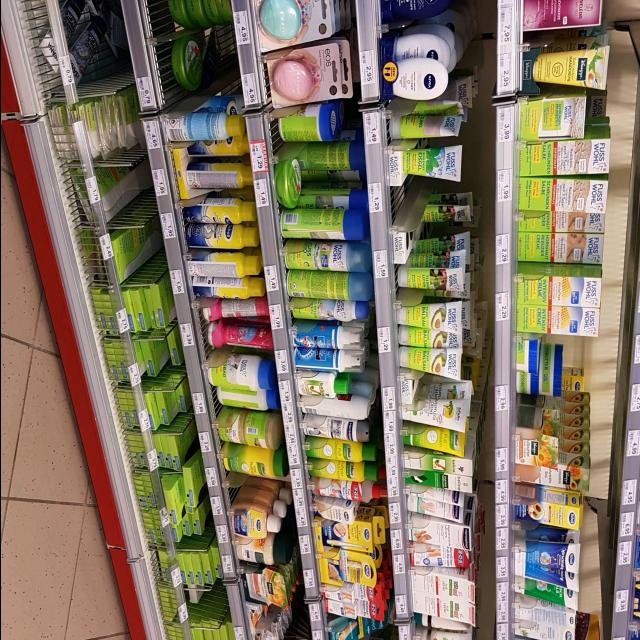empty_space: (152, 5, 174, 119), (388, 178, 441, 212), (203, 34, 237, 76), (560, 338, 588, 366), (188, 587, 217, 609)
